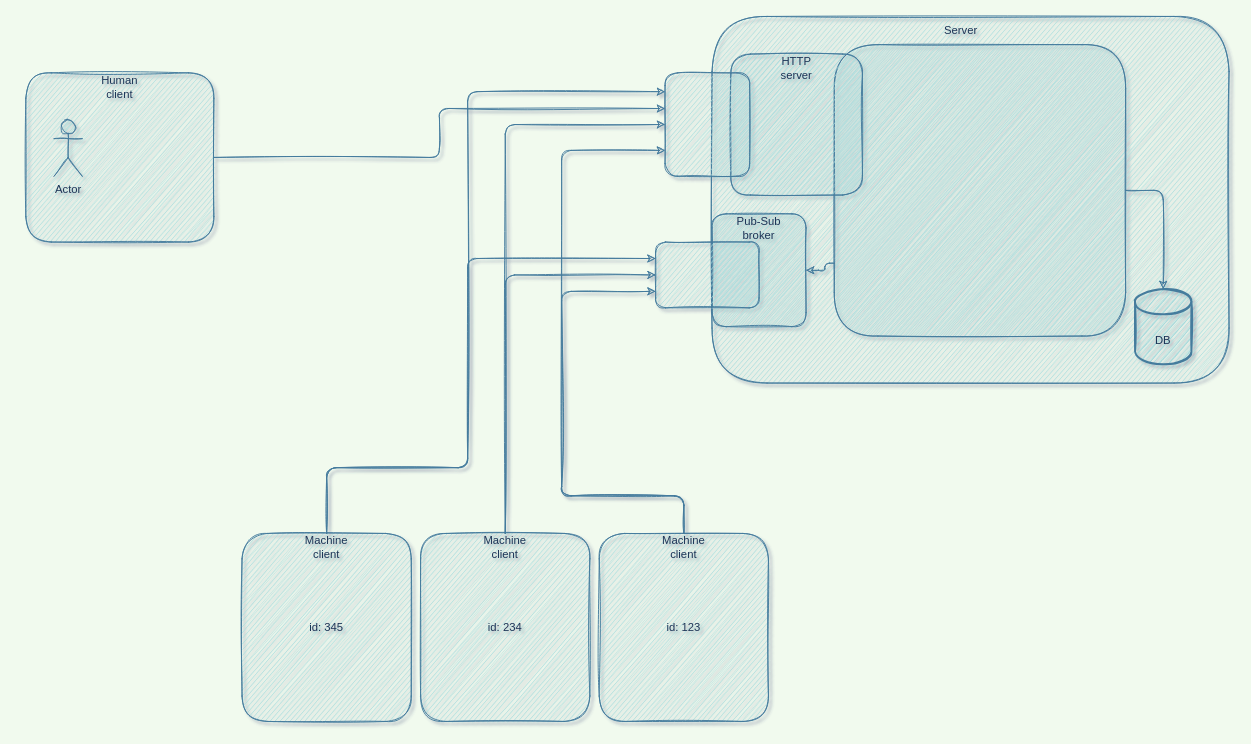
The diagram is 1251 pixels wide and 744 high, and some of its shapes have lost their labels. The shapes that lost their labels are listed below. From the top down, each one's box as (x1, y1, x2, y2) in pixels, then its label:
(664, 72, 750, 176): <<REST API>>
(833, 44, 1126, 336): Application logic
(655, 241, 759, 308): <<REALTIME API>>
